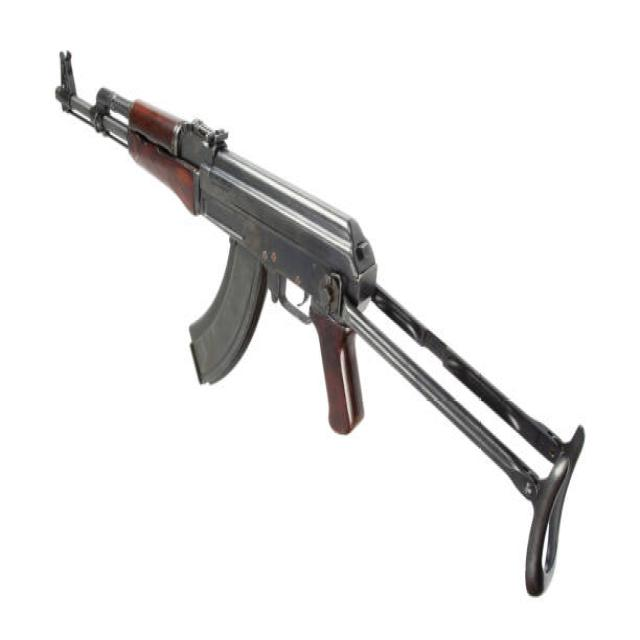rifle: (50, 45, 592, 610)
